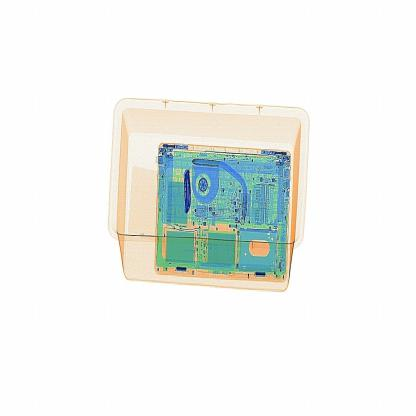knife: (169, 164, 200, 228)
